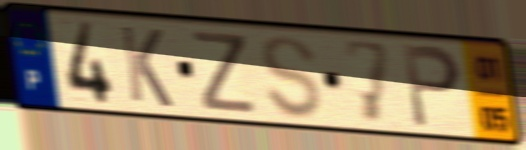4: (64, 18, 117, 107)
7: (342, 36, 394, 129)
K: (117, 22, 176, 111)
P: (400, 41, 464, 132)
S: (259, 33, 325, 123)
Z: (189, 28, 259, 117)
